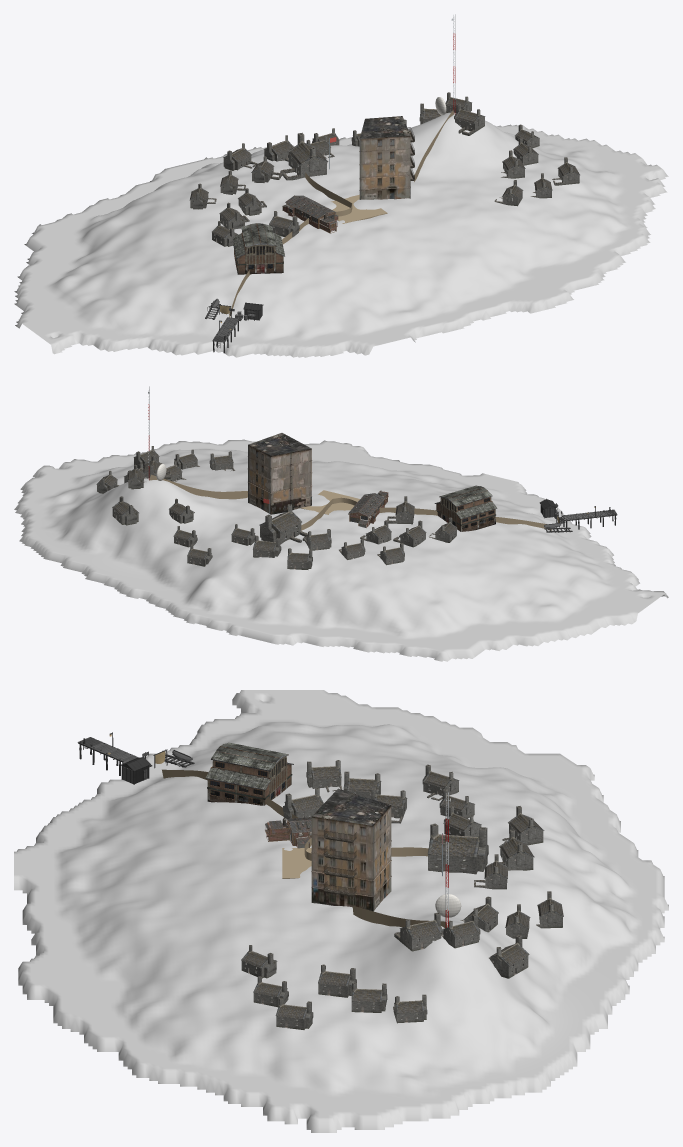
The model's file is ile_insula.glb.
The picture shows the model from 3 angles, top to bottom: view 1: azimuth 30°, elevation 25°; view 2: azimuth 150°, elevation 25°; view 3: azimuth 270°, elevation 25°; orthographic projection. The views are drawn at different scales.
Parts seen in each view (by area): view 1: Ile, polySurface15_lambert4_0.001, Object_2.001, polySurface15_lambert8_0.001, shore_1.001, Place, Cube.002_Material_0.001, roof sheet.002_Material_0.001; view 2: Ile, polySurface15_lambert4_0.001, Object_2.001, polySurface15_lambert8_0.001, Chemin.004, shore_1.001, SM_Cottage_Trim_M_Cottage_Trim_0.023, Place, jetty_0.001, roof sheet.002_Material_0.001; view 3: Ile, polySurface15_lambert5_0.001, Object_2.001, polySurface15_lambert4_0.001, polySurface15_lambert8_0.001, shore_1.001, polySurface15_lambert9_0.001, jetty_0.001, SM_Cottage_Roof_M_Cottage_SlateRoof_0.023, SM_Cottage_Trim_M_Cottage_Trim_0.023, SM_Cottage_Walls_M_Cottage_Walls_0.023, Place (+1 smaller).
Part boxes in pixels (box(x1,y1,x2,y2)): Ile: box(14, 112, 668, 357); polySurface15_lambert4_0.001: box(359, 134, 412, 199); Object_2.001: box(232, 223, 284, 274); polySurface15_lambert8_0.001: box(359, 116, 410, 138); shore_1.001: box(205, 298, 263, 320); Place: box(331, 194, 387, 223); Cube.002_Material_0.001: box(283, 203, 337, 232); roof sheet.002_Material_0.001: box(282, 195, 338, 218); Ile: box(14, 439, 668, 661); polySurface15_lambert4_0.001: box(247, 445, 312, 514); Object_2.001: box(434, 485, 497, 531); polySurface15_lambert8_0.001: box(248, 433, 311, 455); Chemin.004: box(149, 474, 247, 499); shore_1.001: box(539, 498, 572, 532); SM_Cottage_Trim_M_Cottage_Trim_0.023: box(259, 504, 307, 542); Place: box(300, 490, 359, 514); jetty_0.001: box(562, 506, 617, 530); roof sheet.002_Material_0.001: box(348, 493, 385, 524); Ile: box(14, 690, 668, 1132); polySurface15_lambert5_0.001: box(311, 816, 373, 911); Object_2.001: box(205, 742, 293, 805); polySurface15_lambert4_0.001: box(311, 806, 391, 911); polySurface15_lambert8_0.001: box(312, 788, 391, 825); shore_1.001: box(120, 749, 194, 784); polySurface15_lambert9_0.001: box(323, 827, 356, 896); jetty_0.001: box(77, 732, 138, 775); SM_Cottage_Roof_M_Cottage_SlateRoof_0.023: box(430, 835, 476, 857); SM_Cottage_Trim_M_Cottage_Trim_0.023: box(427, 823, 488, 871); SM_Cottage_Walls_M_Cottage_Walls_0.023: box(428, 844, 479, 874); Place: box(282, 848, 311, 878).
Size of the model in its own units: 173 by 42.59 by 110.
Materials: 35 (26 with a texture image).
